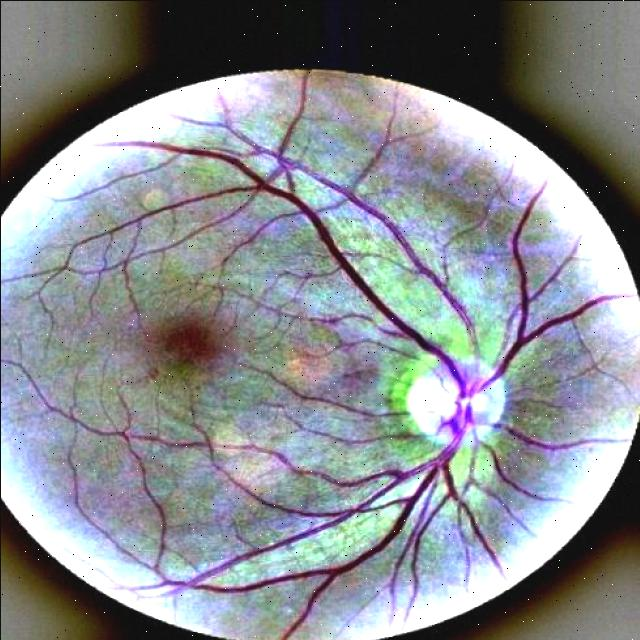Macula: (163, 325, 212, 362)
Nerves: (114, 121, 635, 640)
Optic Disk: (391, 354, 504, 449)
